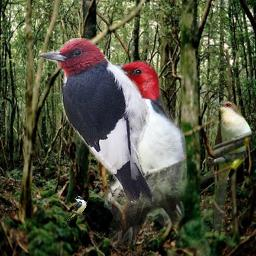Cuckoo: (209, 100, 253, 229)
Swallow: (67, 196, 87, 221)
Woodpecker: (38, 38, 152, 204), (94, 60, 190, 253)
